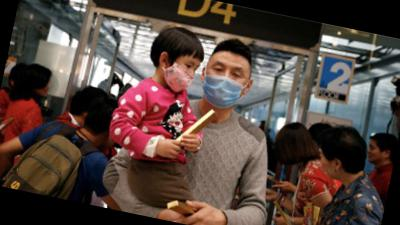with_mask: (200, 57, 252, 112), (162, 56, 199, 97)
without_mask: (365, 143, 387, 166), (35, 76, 54, 99)
